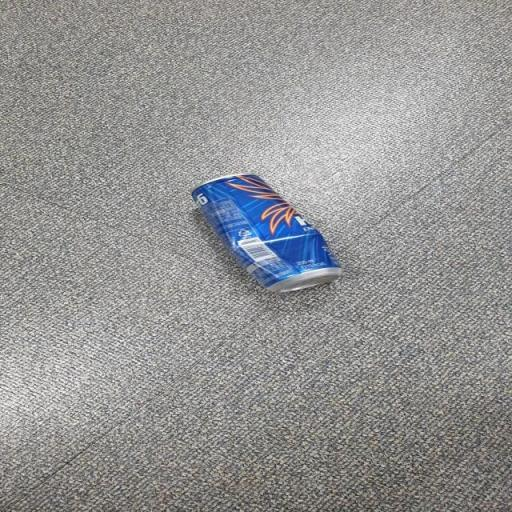metal: (123, 160, 435, 311)
